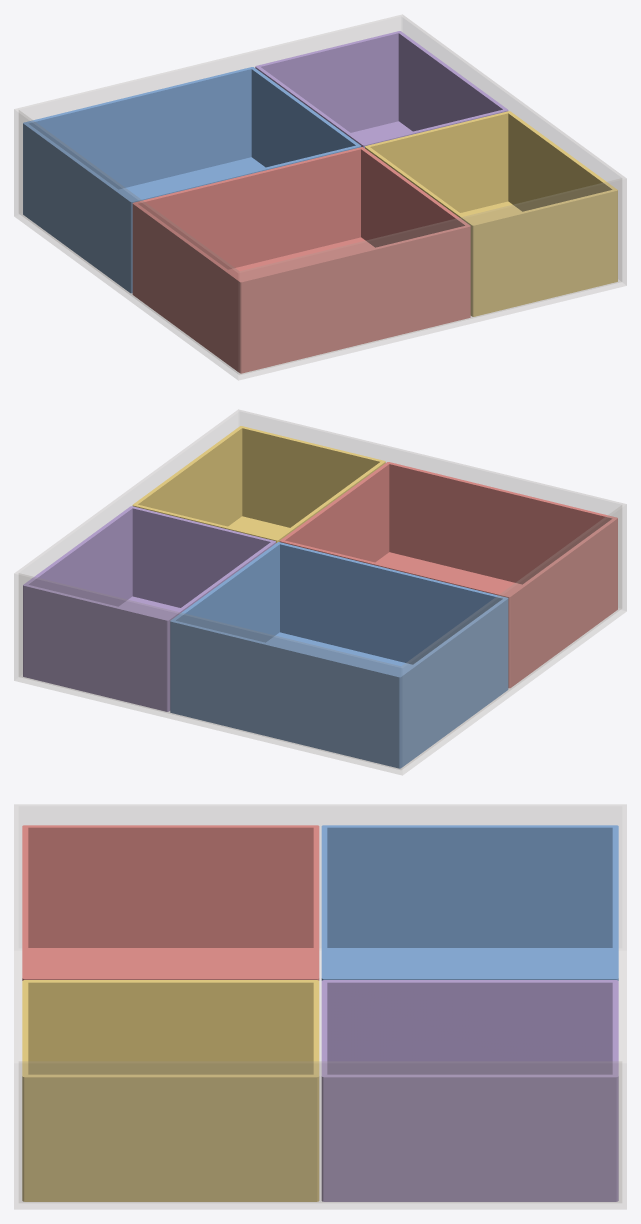
Rendered from organizer.glb.
3 views of the same model, one above another, from view 1: azimuth 30°, elevation 25°; view 2: azimuth 150°, elevation 25°; view 3: azimuth 270°, elevation 25° (orthographic). The views are drawn at different scales.
Parts seen in each view (by area): view 1: Game box (preview only), Red Player Kit, Blue Player Kit, Shared Supply: Dice, Shared Supply: Battle Tokens; view 2: Game box (preview only), Blue Player Kit, Red Player Kit, Shared Supply: Battle Tokens, Shared Supply: Dice; view 3: Game box (preview only), Shared Supply: Dice, Shared Supply: Battle Tokens, Red Player Kit, Blue Player Kit.
Boxes of the visible parts, x1=… form: Game box (preview only): x1=14, y1=14, x2=626, y2=380; Red Player Kit: x1=132, y1=147, x2=470, y2=373; Blue Player Kit: x1=23, y1=67, x2=361, y2=293; Shared Supply: Dice: x1=365, y1=111, x2=617, y2=316; Shared Supply: Battle Tokens: x1=255, y1=31, x2=508, y2=147; Game box (preview only): x1=14, y1=409, x2=626, y2=775; Blue Player Kit: x1=170, y1=542, x2=508, y2=768; Red Player Kit: x1=279, y1=462, x2=617, y2=688; Shared Supply: Battle Tokens: x1=23, y1=506, x2=275, y2=711; Shared Supply: Dice: x1=132, y1=426, x2=385, y2=542; Game box (preview only): x1=14, y1=804, x2=626, y2=1209; Shared Supply: Dice: x1=22, y1=980, x2=319, y2=1201; Shared Supply: Battle Tokens: x1=321, y1=980, x2=618, y2=1201; Red Player Kit: x1=22, y1=825, x2=319, y2=980; Blue Player Kit: x1=321, y1=825, x2=618, y2=980.
Bounding box in the file's own units: 0.254 × 0.067 × 0.254.
